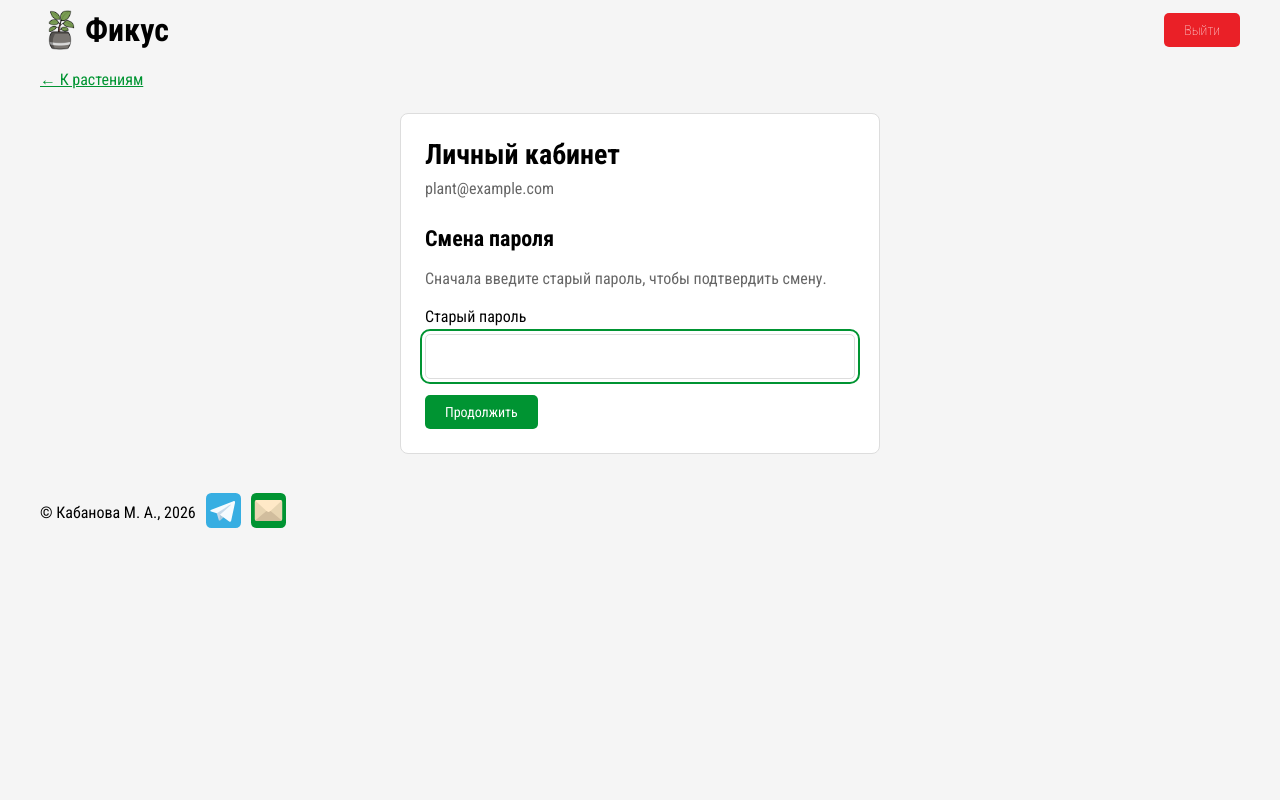
Test: saves a confirmed new password and clears all password fields
The width and height of the screenshot is (1280, 800).
Type "old-password" into the password field labelled "Старый пароль" at (640, 356), box x1=425 y1=334 x2=855 y2=379
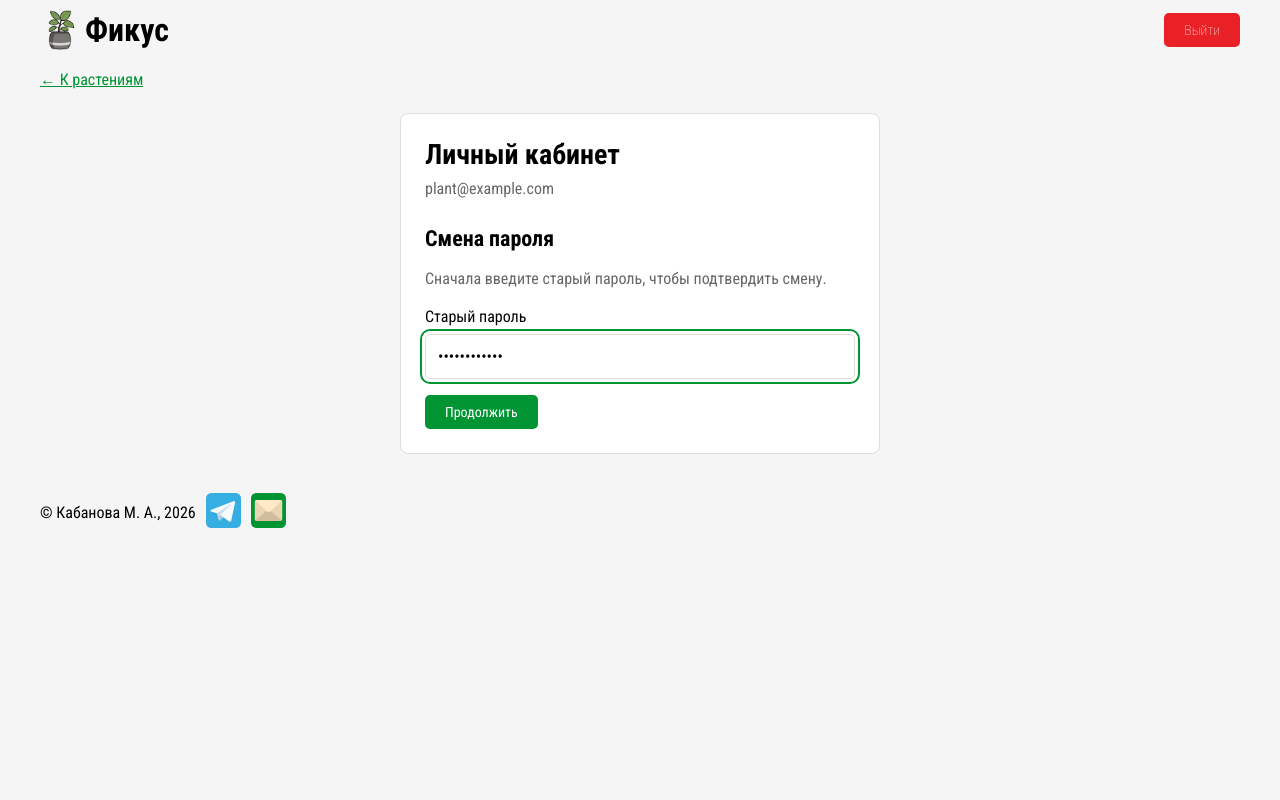
Submit the form "Смена пароля", box x1=425 y1=226 x2=855 y2=429
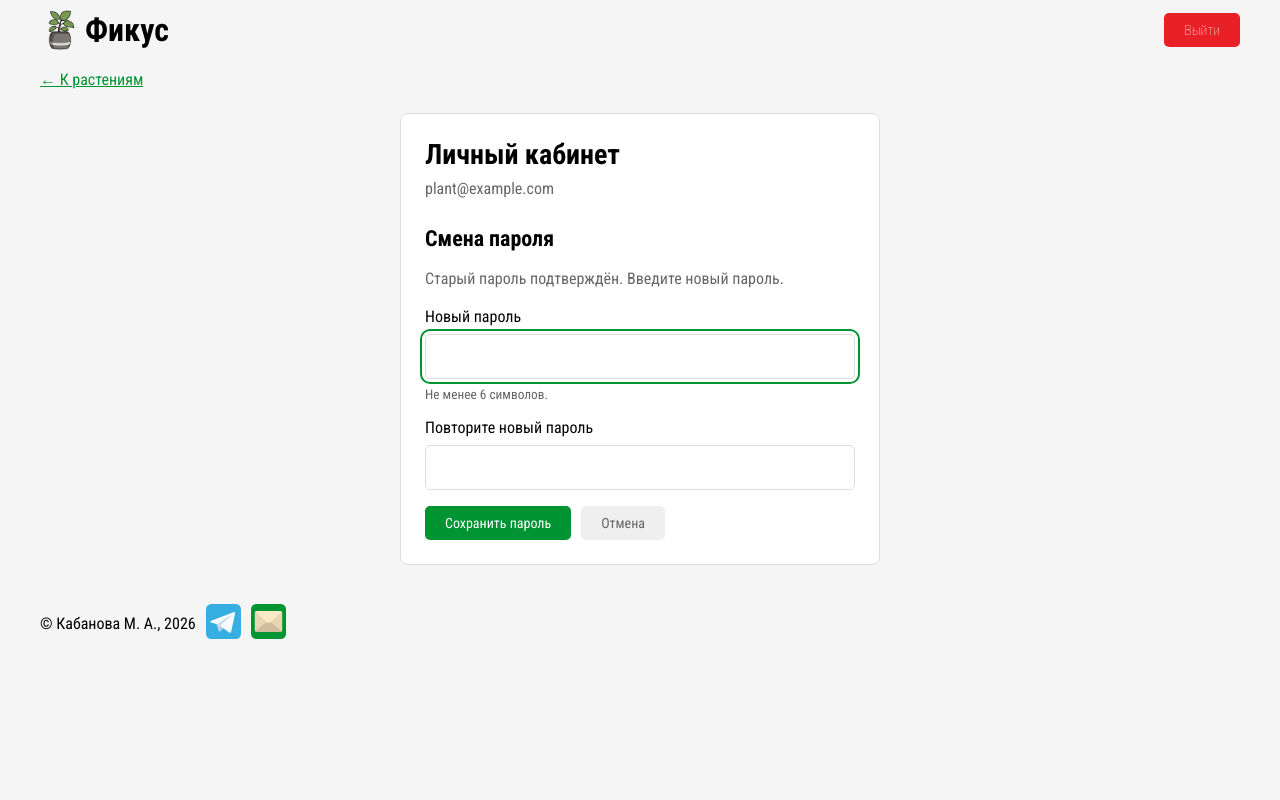
Now the password field labelled "Новый пароль" is shown
Type "new-password" into the password field labelled "Новый пароль" at (640, 356), box x1=425 y1=334 x2=855 y2=379
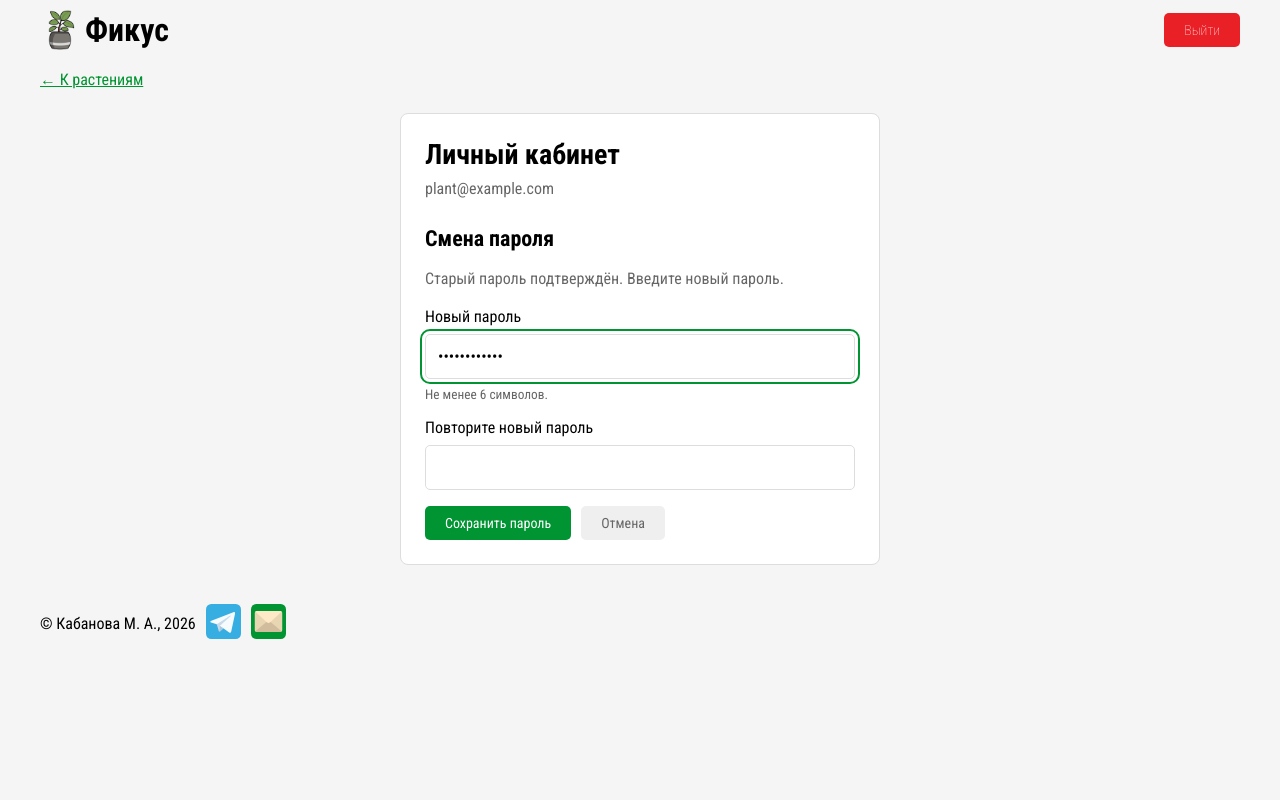
Type "new-password" into the password field labelled "Повторите новый пароль" at (640, 468), box x1=425 y1=445 x2=855 y2=490
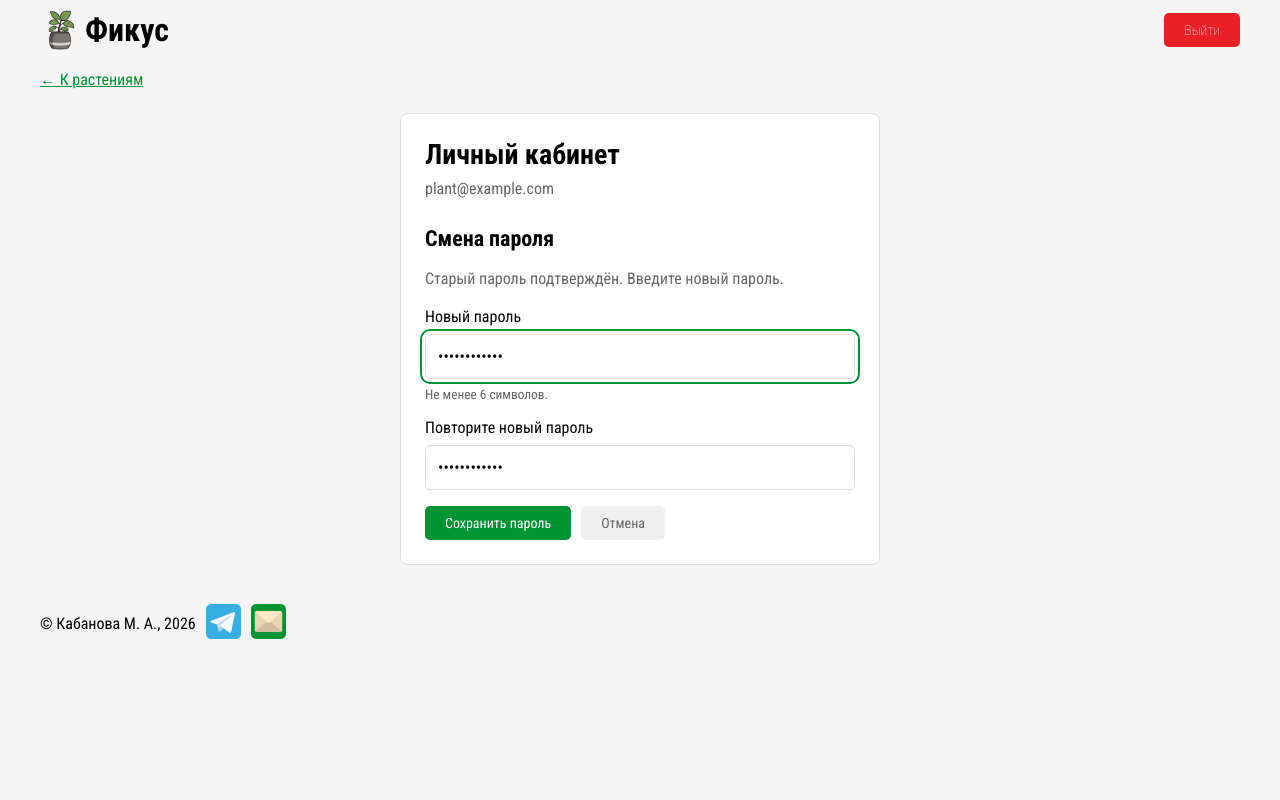
Submit the form "Смена пароля", box x1=425 y1=226 x2=855 y2=540
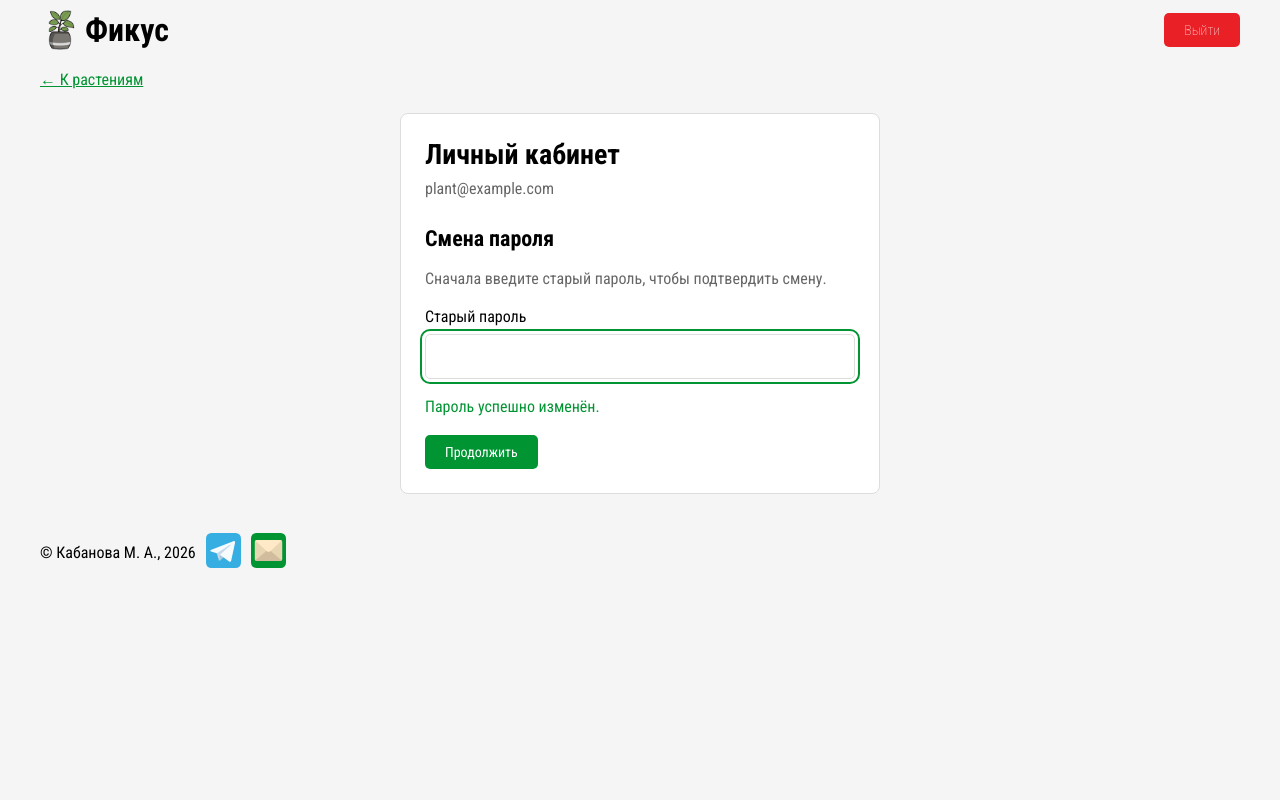
Now the message reads "Пароль успешно изменён.", box x1=425 y1=397 x2=600 y2=416
Now the password field labelled "Старый пароль" is empty, box x1=425 y1=334 x2=855 y2=379
Now the text labelled "новый пароль" is gone
